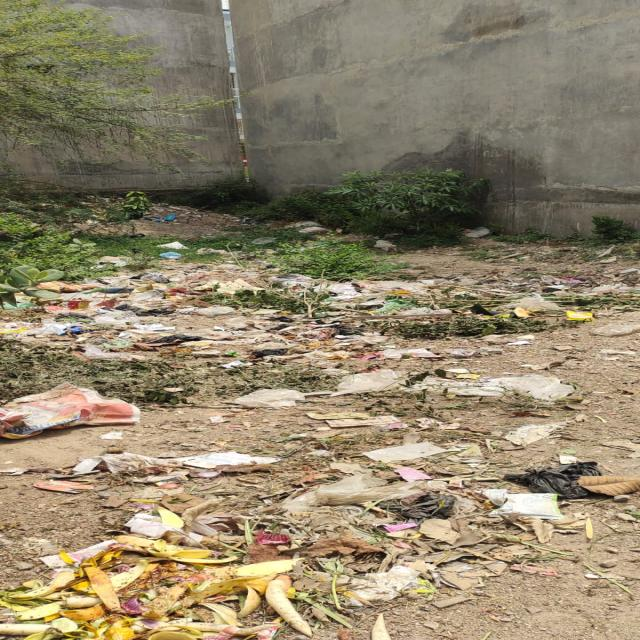Garbage: (0, 272, 621, 624)
